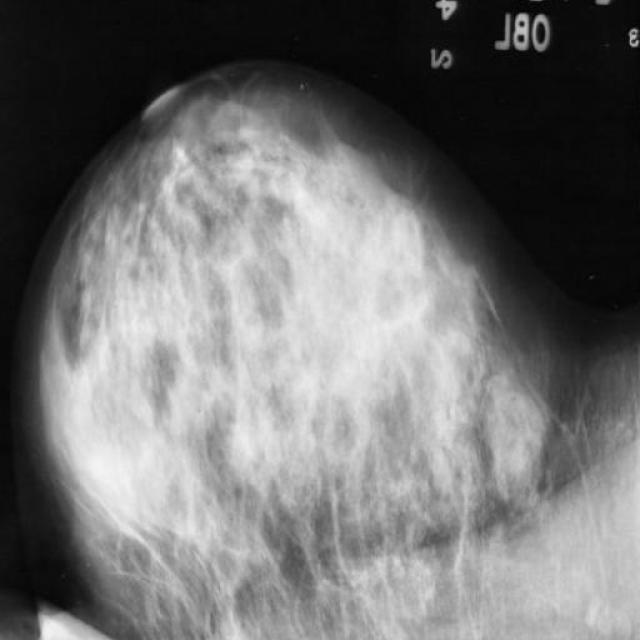cancer: (157, 110, 202, 190)
